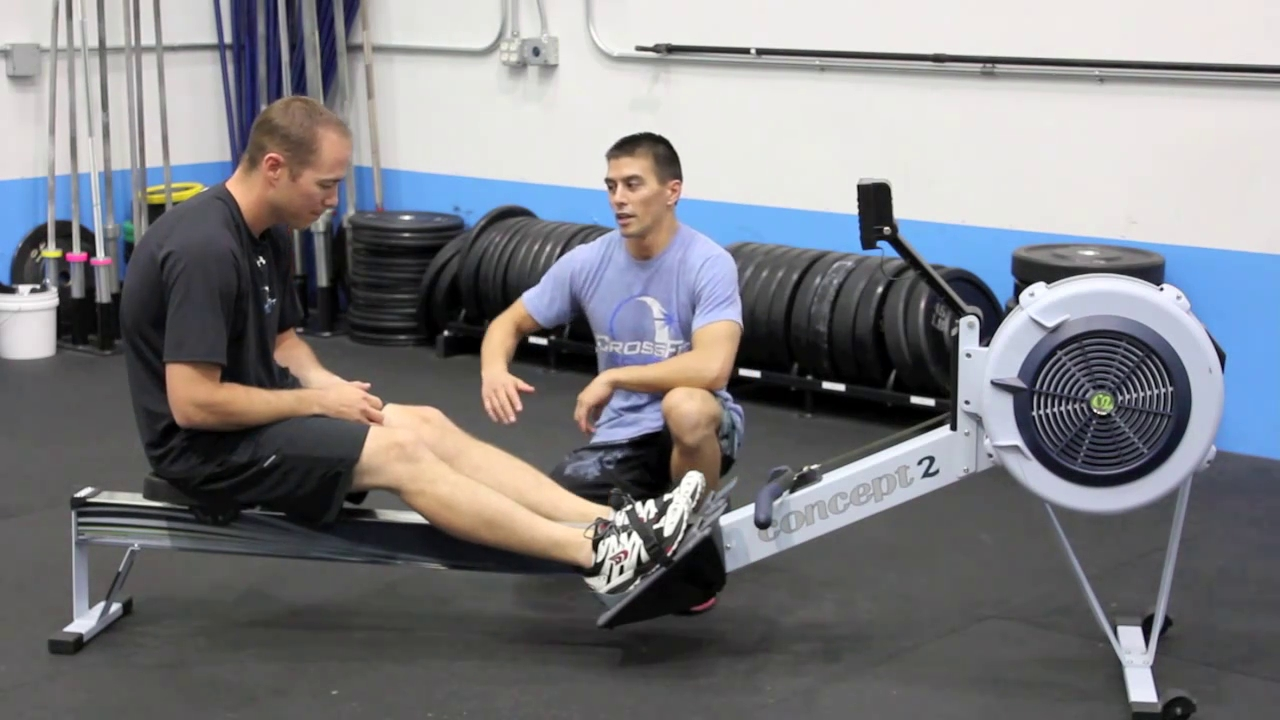person: (118, 95, 705, 607), (478, 132, 745, 500)
